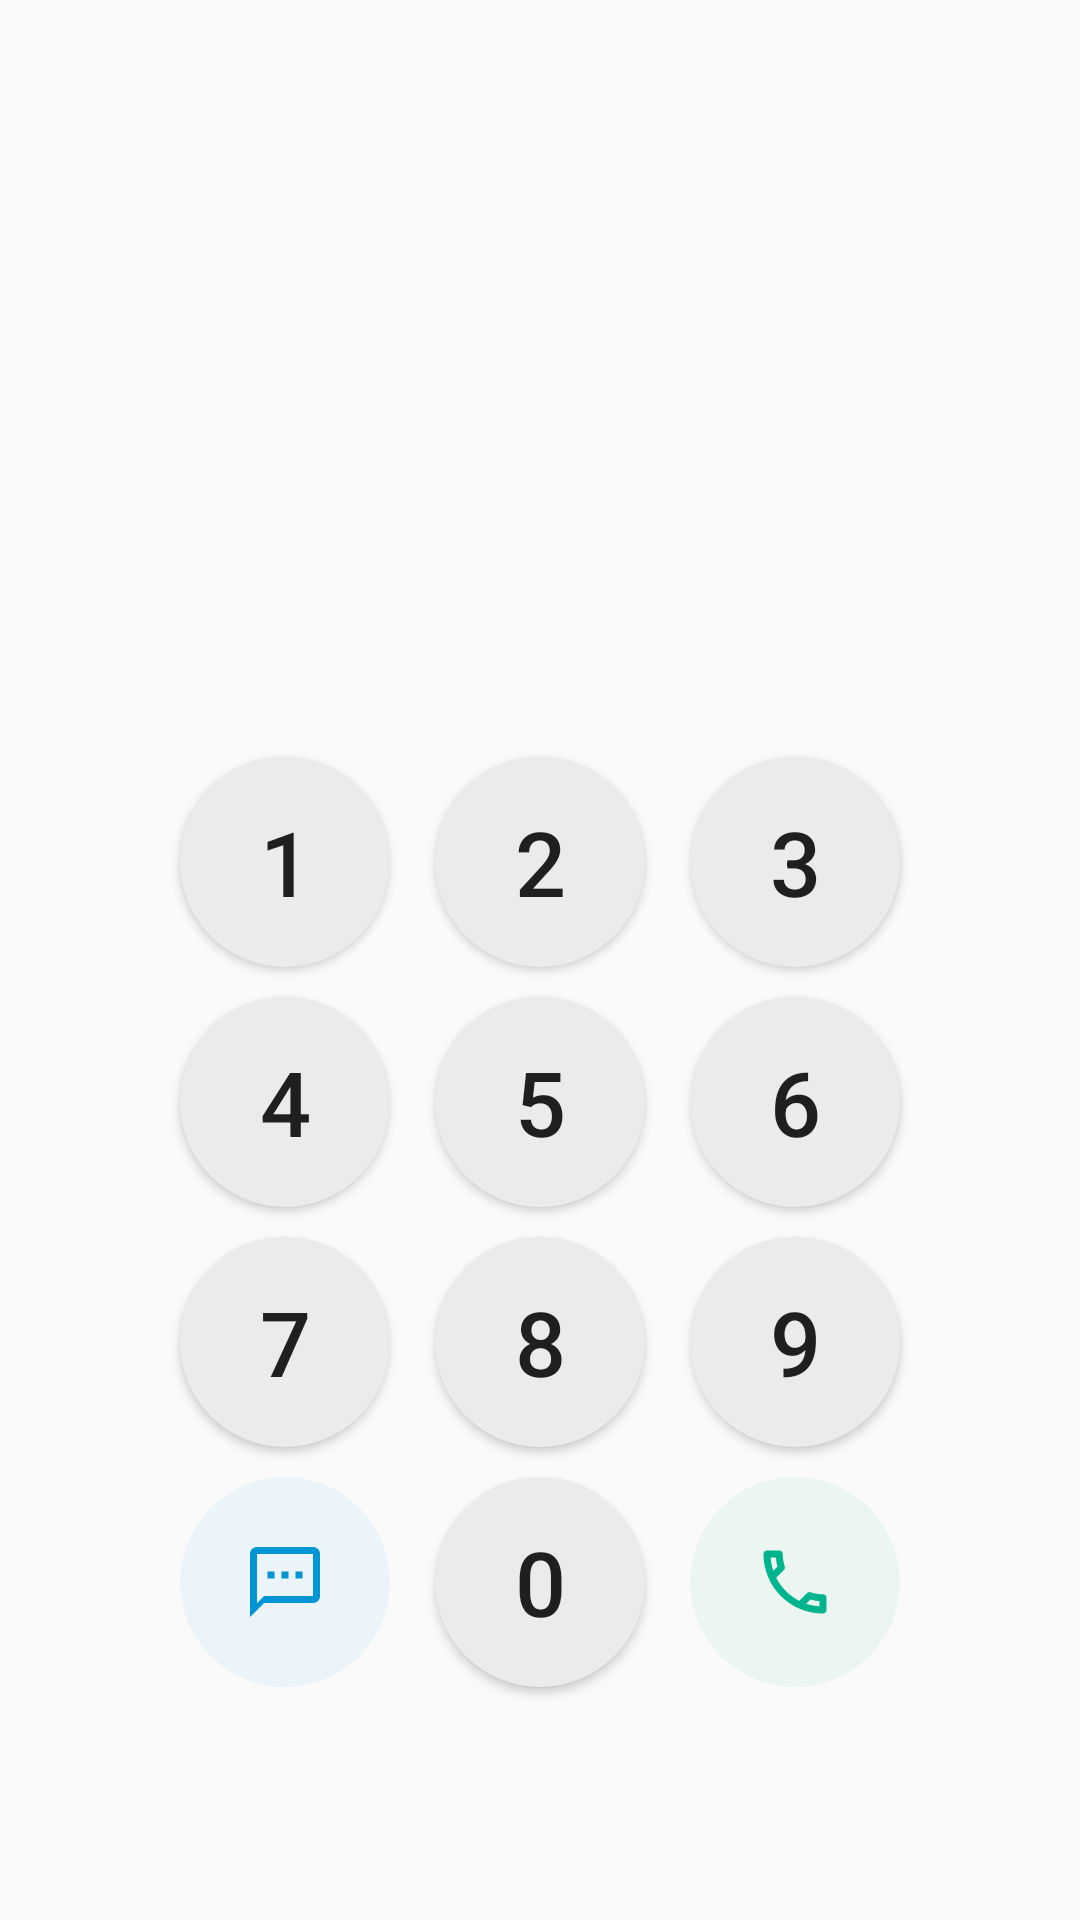

Icon click points for this 1080×1920 phone screenshot, format (x=x, y=y):
phone: (x=795, y=1582)
textsms: (x=285, y=1582)
